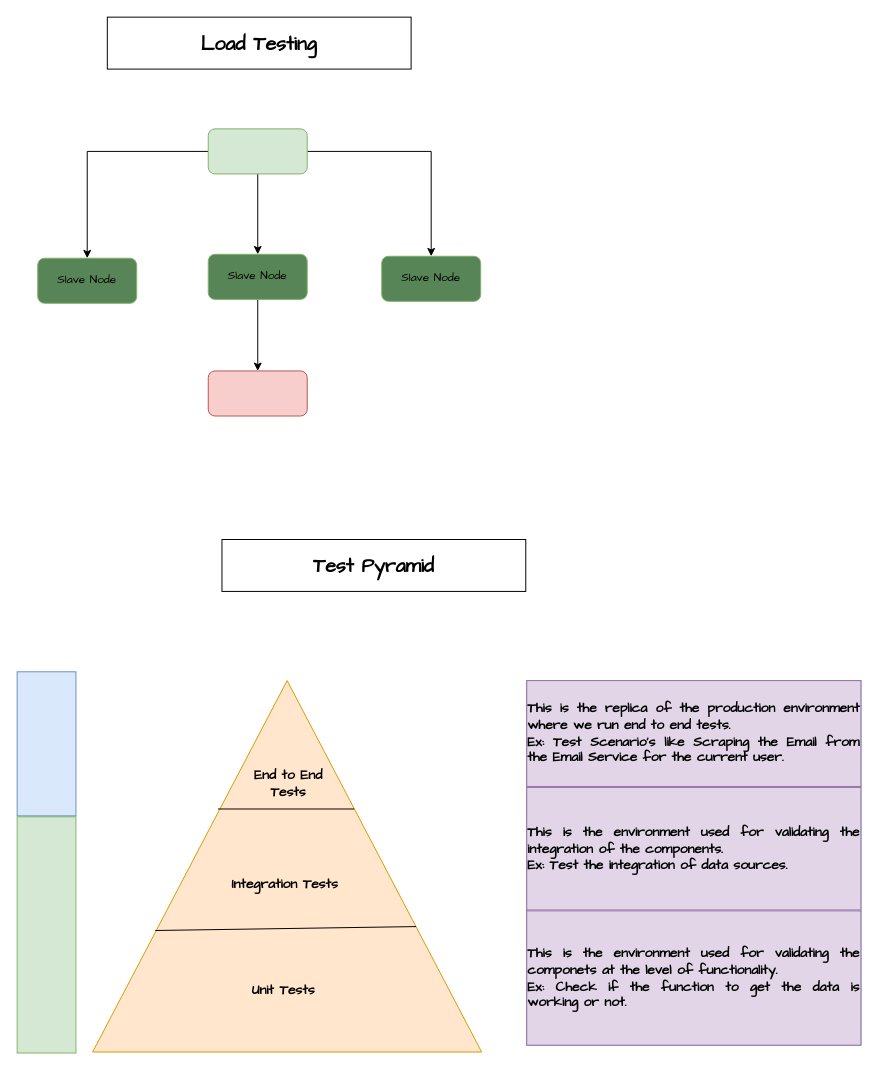
The diagram is 878 pixels wide and 1070 high, and some of its shapes have lost their labels. The shapes that lost their labels are listed below. From the top down, each one's centre as x and y in pixels, then its label:
point 257,151: Master
point 257,393: System Under Test
point 46,743: CD
point 46,934: CI
